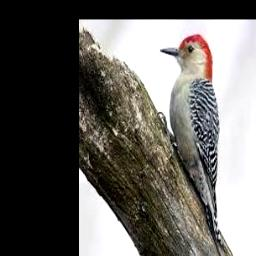Woodpecker: (160, 34, 231, 255)
